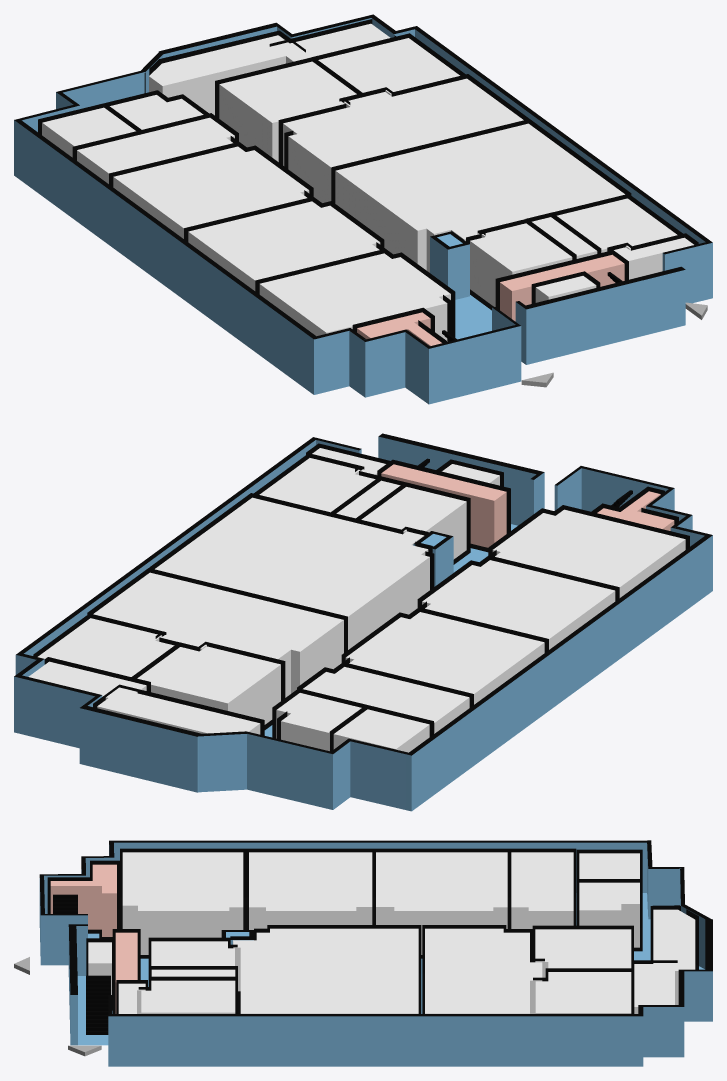
3 renders of one model, top to bottom at view 1: azimuth 30°, elevation 25°; view 2: azimuth 150°, elevation 25°; view 3: azimuth 270°, elevation 25°, orthographic. The views are drawn at different scales.
Parts seen in each view (by area): view 1: object, room_5_1_5, room_5_1_12, room_5_1_14, room_5_1_1, room_5_1_13, room_5_1_11, room_5_1_6, room_5_1_8, room_5_1_4, room_5_1_7, room_5_1_16 (+20 smaller); view 2: object, room_5_1_5, room_5_1_12, room_5_1_14, room_5_1_13, room_5_1_1, room_5_1_11, room_5_1_6, room_5_1_8, room_5_1_4, room_5_1_7, room_5_1_16 (+21 smaller); view 3: object, room_5_1_5, room_5_1_1, room_5_1_14, room_5_1_12, room_5_1_13, room_5_1_8, room_5_1_6, room_5_1_4, room_5_1_11, room_5_1_16, room_5_1_9 (+26 smaller).
Part boxes in pixels (left/top/right/bottom): object: left=14, top=14, right=712, bottom=404; room_5_1_5: left=335, top=123, right=624, bottom=272; room_5_1_12: left=283, top=78, right=523, bottom=202; room_5_1_14: left=113, top=146, right=309, bottom=238; room_5_1_1: left=259, top=253, right=450, bottom=341; room_5_1_13: left=188, top=201, right=380, bottom=290; room_5_1_11: left=219, top=61, right=356, bottom=161; room_5_1_6: left=149, top=23, right=390, bottom=115; room_5_1_8: left=77, top=117, right=234, bottom=183; room_5_1_4: left=318, top=38, right=459, bottom=95; room_5_1_7: left=470, top=223, right=572, bottom=306; room_5_1_16: left=557, top=198, right=677, bottom=252; object: left=14, top=433, right=712, bottom=811; room_5_1_5: left=155, top=497, right=429, bottom=649; room_5_1_12: left=93, top=572, right=343, bottom=697; room_5_1_14: left=345, top=612, right=544, bottom=704; room_5_1_13: left=422, top=560, right=615, bottom=649; room_5_1_1: left=492, top=509, right=685, bottom=597; room_5_1_11: left=137, top=646, right=280, bottom=724; room_5_1_6: left=28, top=661, right=260, bottom=734; room_5_1_8: left=303, top=667, right=469, bottom=733; room_5_1_4: left=37, top=618, right=174, bottom=676; room_5_1_7: left=361, top=487, right=466, bottom=559; room_5_1_16: left=259, top=458, right=375, bottom=512; object: left=39, top=840, right=712, bottom=1066; room_5_1_5: left=233, top=928, right=418, bottom=1013; room_5_1_1: left=122, top=852, right=243, bottom=954; room_5_1_14: left=376, top=852, right=507, bottom=954; room_5_1_12: left=425, top=928, right=542, bottom=1013; room_5_1_13: left=249, top=852, right=372, bottom=929; room_5_1_8: left=511, top=852, right=573, bottom=928; room_5_1_6: left=634, top=909, right=695, bottom=1013; room_5_1_4: left=535, top=972, right=631, bottom=1013; room_5_1_11: left=535, top=929, right=631, bottom=977; room_5_1_16: left=141, top=980, right=235, bottom=1013; room_5_1_9: left=579, top=882, right=639, bottom=947.
Bounding box in the file's own units: 1.57 × 0.2131 × 2.64.
